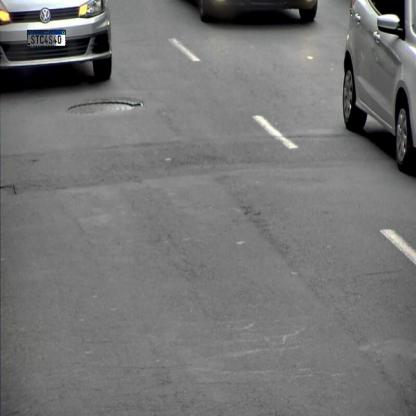PlacaM: (27, 30, 66, 46)
